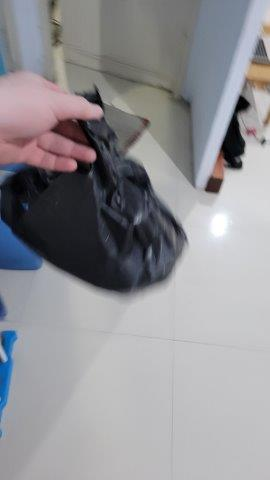plastik: (1, 88, 190, 302)
